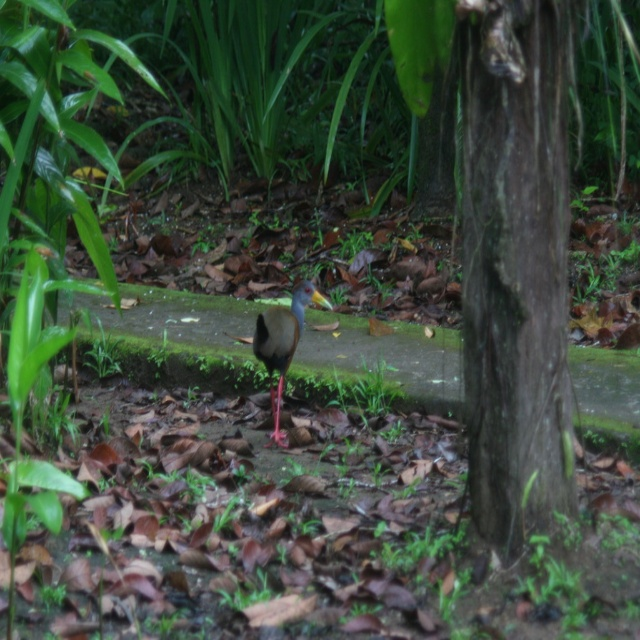Duck: (253, 277, 334, 442)
